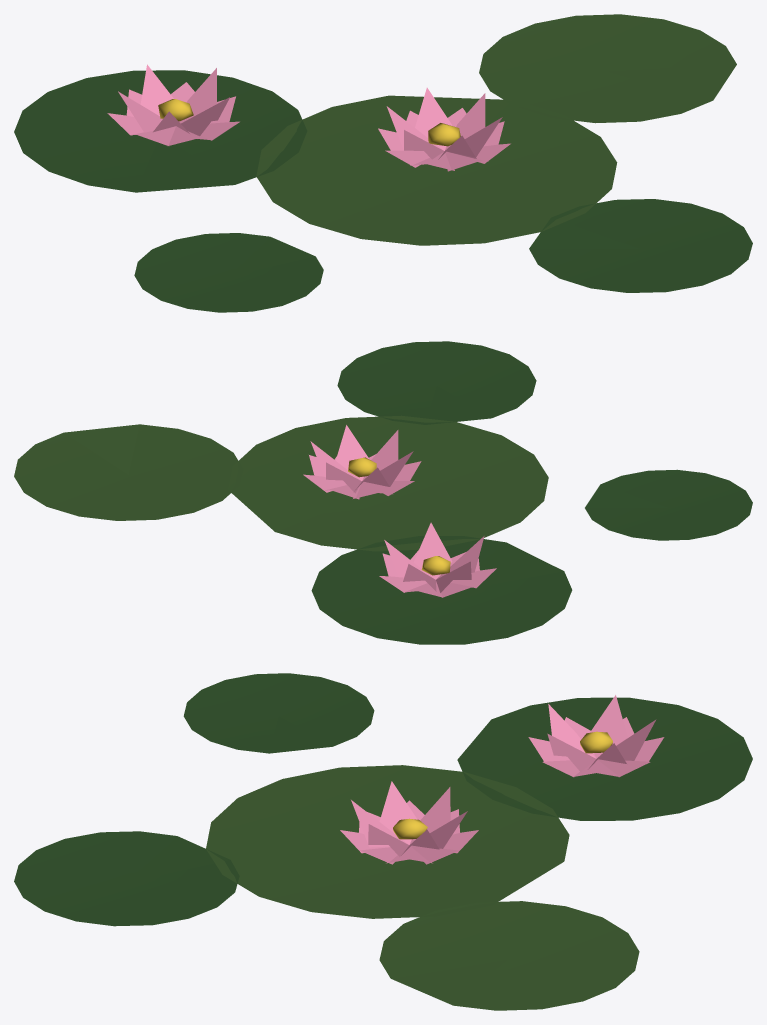
3 renders of one model, top to bottom at view 1: azimuth 30°, elevation 25°; view 2: azimuth 150°, elevation 25°; view 3: azimuth 270°, elevation 25°, orthographic. The views are drawn at different scales.
Parts seen in each view (by area): view 1: shore-lily-pink; view 2: shore-lily-pink; view 3: shore-lily-pink.
Part boxes in pixels (x1,y1,x2,y2): shore-lily-pink: (14, 14, 752, 312); shore-lily-pink: (14, 341, 752, 644); shore-lily-pink: (14, 673, 752, 1010).
Size of the model in its own units: 1.84 by 0.125 by 1.7.
